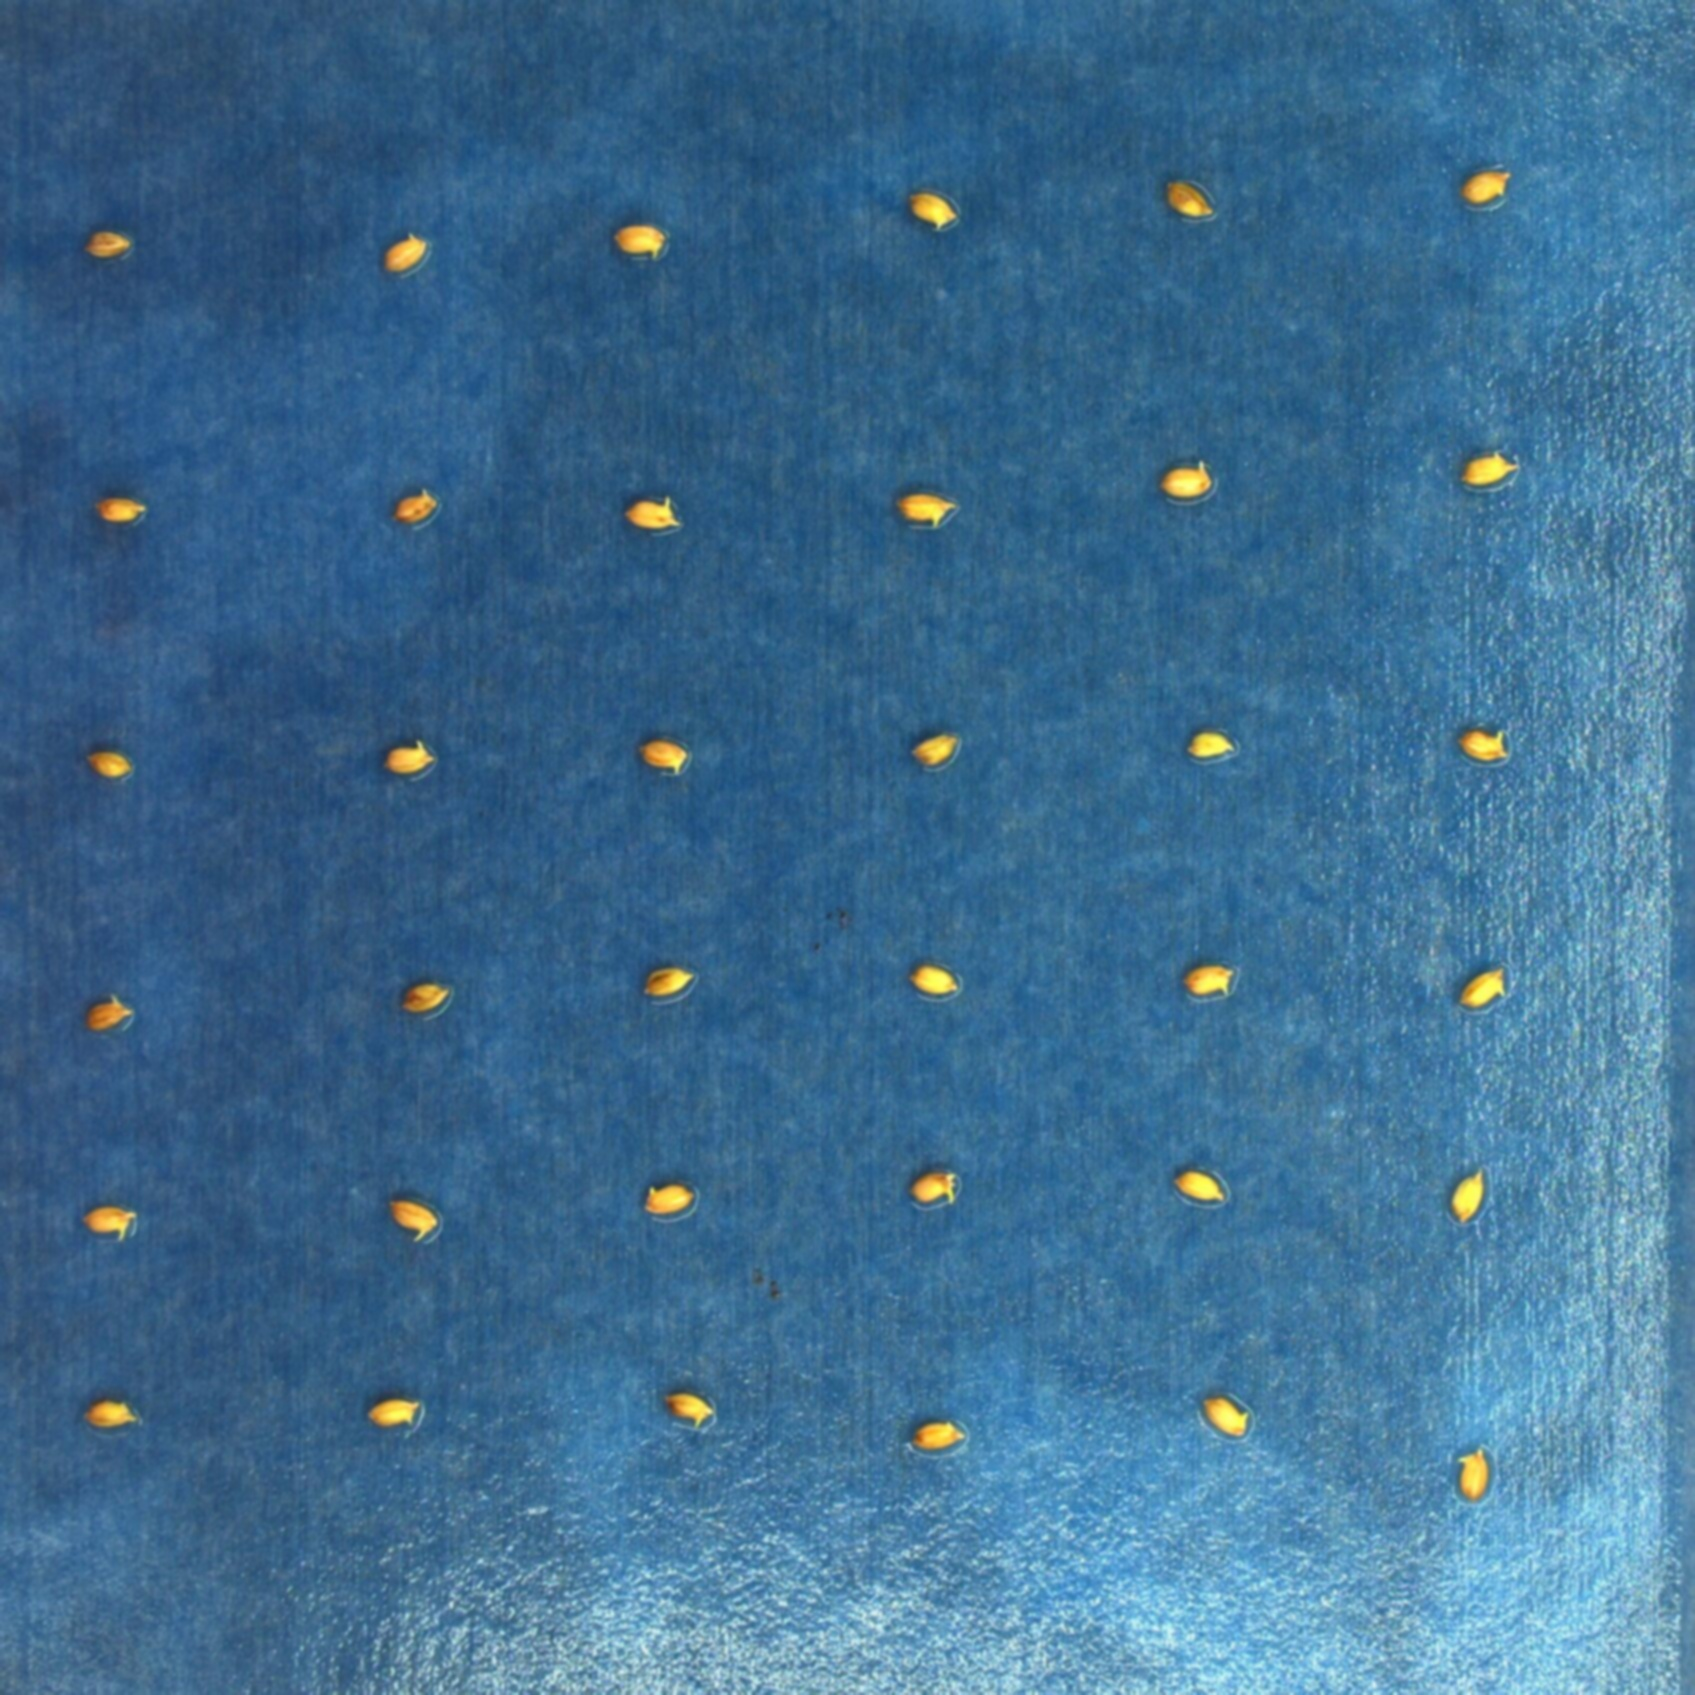not sprout: (1447, 445, 1527, 509), (81, 976, 143, 1052), (646, 1391, 730, 1444), (1444, 1167, 1509, 1231), (1458, 951, 1516, 1021), (902, 1156, 973, 1214), (619, 486, 702, 536), (893, 478, 973, 528), (640, 1167, 711, 1223), (1458, 154, 1524, 210), (379, 227, 442, 281), (1445, 1445, 1510, 1498), (366, 1391, 424, 1448), (900, 191, 958, 248), (382, 730, 439, 787), (897, 723, 962, 771), (81, 744, 144, 792), (633, 961, 698, 1007), (385, 1194, 445, 1243), (1159, 453, 1220, 503), (1454, 722, 1520, 765), (73, 1205, 140, 1246), (1195, 1402, 1253, 1450), (75, 1399, 140, 1440), (911, 951, 964, 1001), (1170, 1161, 1226, 1208), (903, 1409, 962, 1451), (635, 730, 689, 775), (1158, 180, 1209, 225), (1180, 722, 1236, 762), (613, 220, 666, 262), (397, 976, 442, 1023), (81, 227, 130, 269), (96, 490, 144, 529), (393, 487, 438, 528), (1184, 961, 1232, 998)
